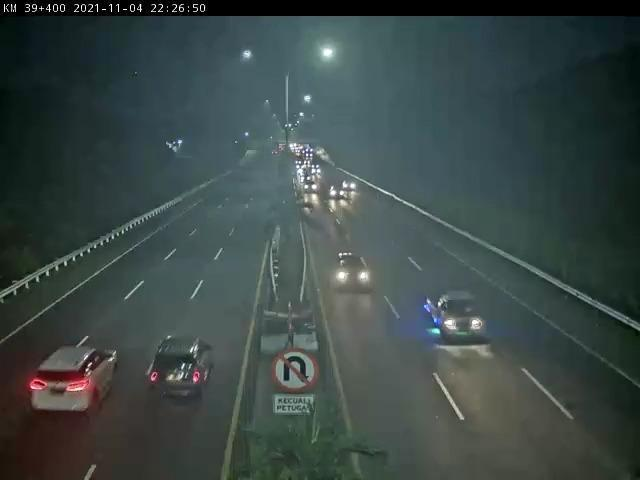car: (29, 345, 119, 418), (151, 337, 216, 399), (331, 249, 371, 291)
truck: (422, 290, 488, 342)
